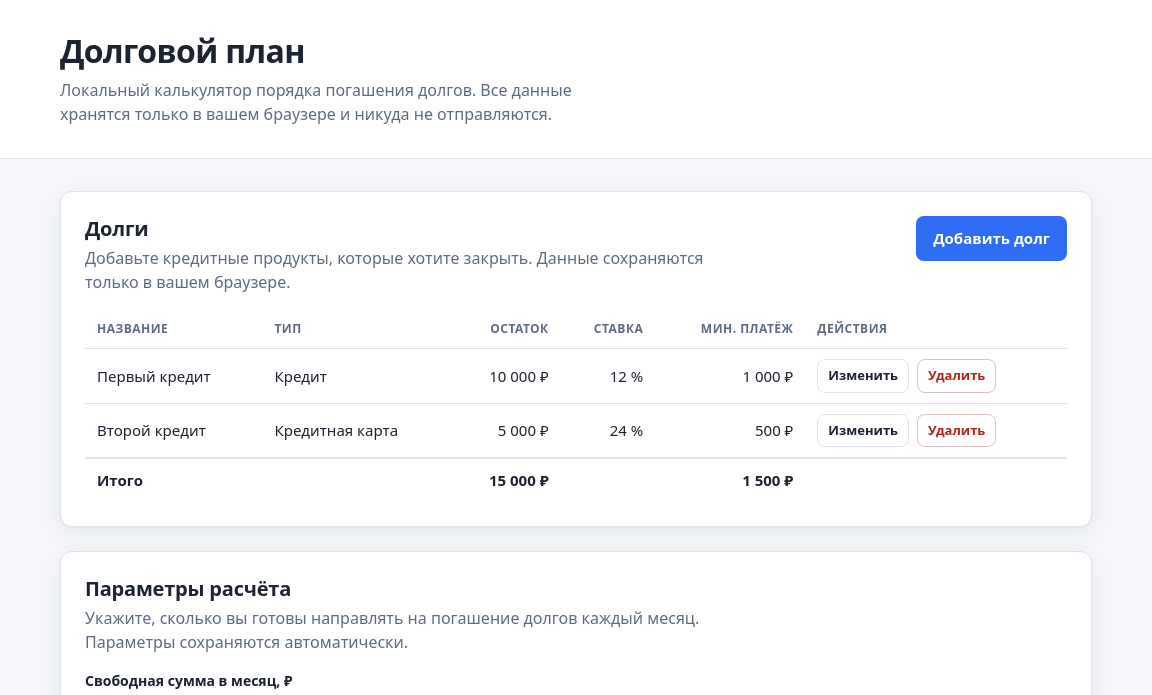
Scenario: FE-009: удаление долга с подтверждением › не удаляет долг, пока пользователь не подтвердил действие
Click the button "Удалить" in the row of "Первый кредит".
click(957, 376)  # box [917,359,996,393]
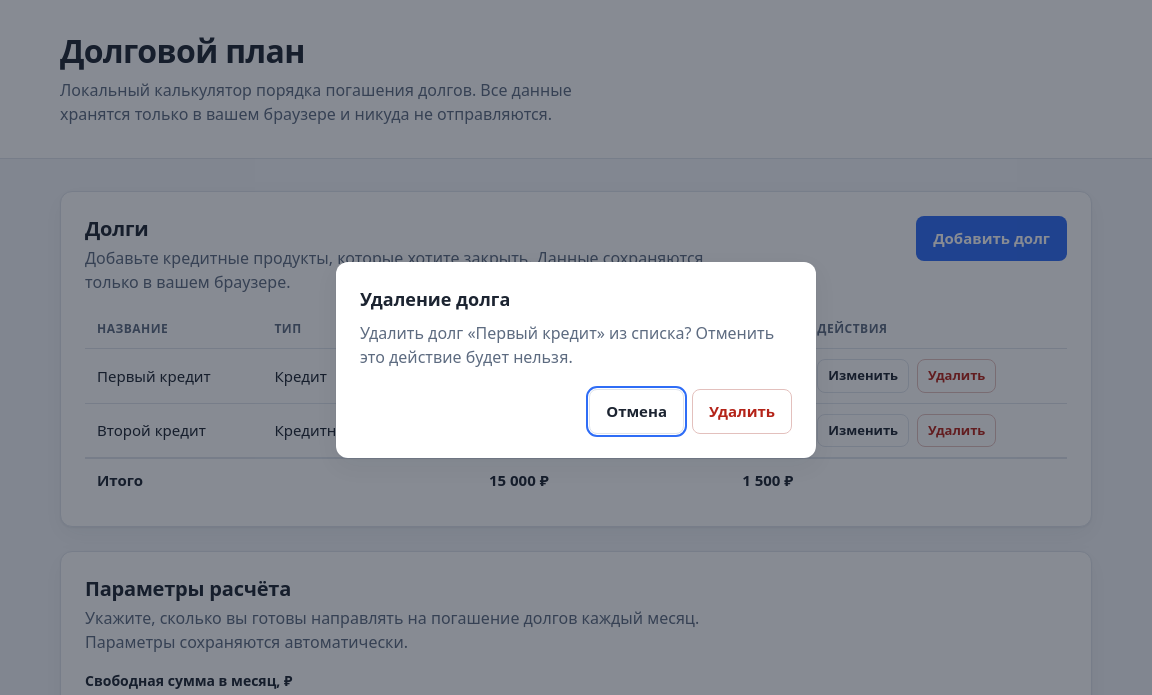
Expected: the text "Первый кредит" is shown, [360,322,774,368]
